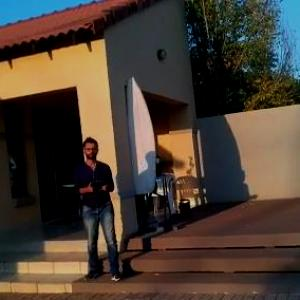follow: (72, 131, 126, 285)
